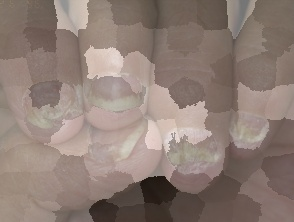Nail_psoriasis: (14, 72, 85, 139), (81, 60, 154, 124), (79, 117, 155, 174), (162, 122, 222, 177), (227, 106, 272, 149)
